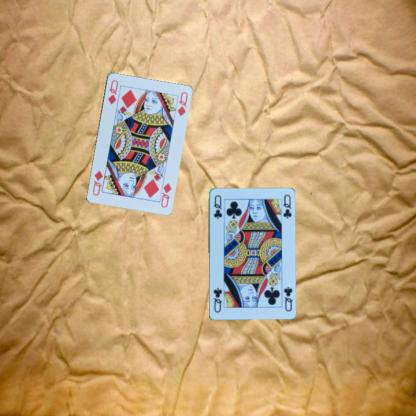Qc: (211, 192, 223, 220), (281, 284, 293, 312)
Qd: (156, 178, 173, 209), (105, 77, 119, 105)
